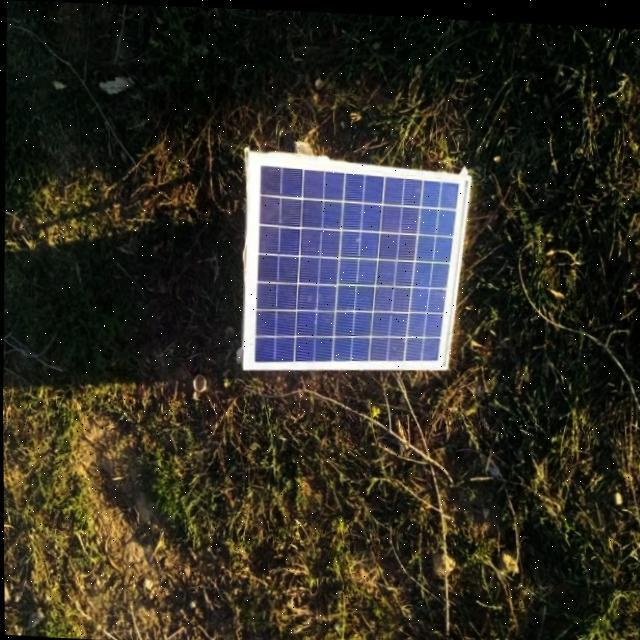Normal Solar Panel: (242, 150, 469, 379)
